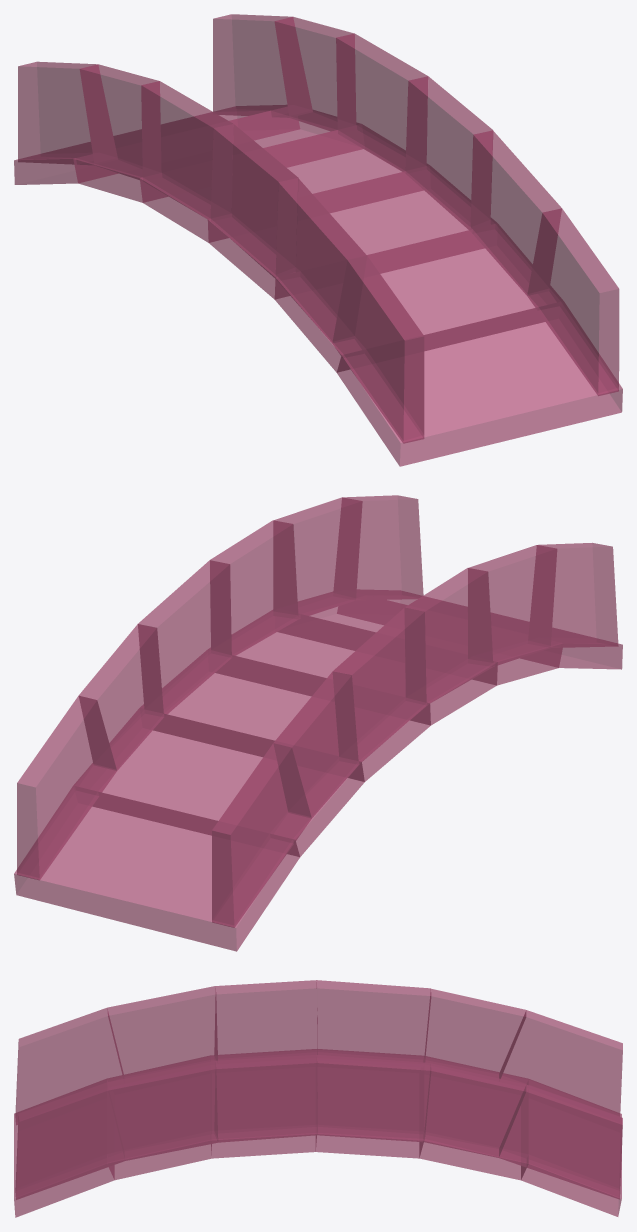
The model's file is SM_Bld_Bridge_01_Collision.fbx.
The picture shows the model from 3 angles, top to bottom: view 1: azimuth 30°, elevation 25°; view 2: azimuth 150°, elevation 25°; view 3: azimuth 270°, elevation 25°; orthographic projection. The views are drawn at different scales.
Visible parts, largest first — view 1: SM_Bld_Bridge_01_Collision; view 2: SM_Bld_Bridge_01_Collision; view 3: SM_Bld_Bridge_01_Collision.
Part boxes in pixels (x1,y1,x2,y2): SM_Bld_Bridge_01_Collision: (14,14,622,466); SM_Bld_Bridge_01_Collision: (14,495,622,951); SM_Bld_Bridge_01_Collision: (14,980,622,1217).
Bounding box in the file's own units: 251 × 213 × 759.
